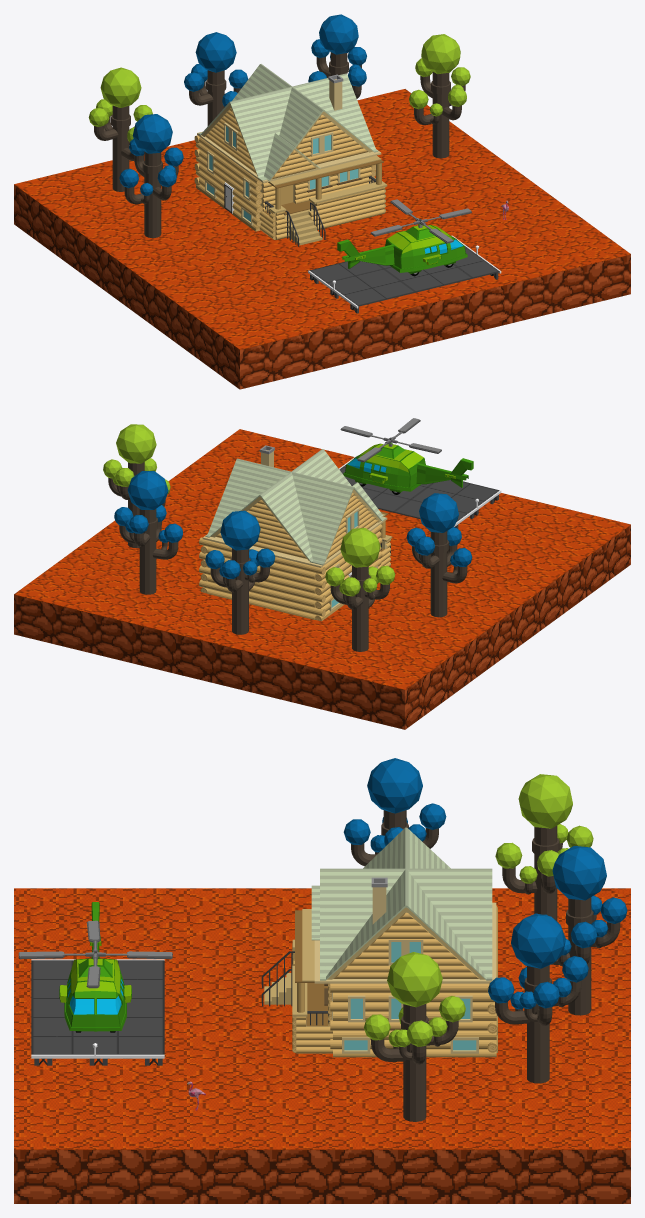
3 views of the same model, one above another, from view 1: azimuth 30°, elevation 25°; view 2: azimuth 150°, elevation 25°; view 3: azimuth 270°, elevation 25° (orthographic). The views are drawn at different scales.
Visible parts, largest first — view 1: Cube.001, Cube.1516, VEHICLES_HELICOPTER; view 2: Cube.001, Cube.1516, VEHICLES_HELICOPTER; view 3: Cube.001, Cube.1516, VEHICLES_HELICOPTER.
Boxes of the visible parts, bbox=[...] form: Cube.001: bbox=[14, 14, 630, 389]; Cube.1516: bbox=[194, 64, 387, 246]; VEHICLES_HELICOPTER: bbox=[337, 199, 471, 276]; Cube.001: bbox=[14, 424, 630, 729]; Cube.1516: bbox=[199, 445, 392, 621]; VEHICLES_HELICOPTER: bbox=[340, 418, 473, 494]; Cube.001: bbox=[14, 758, 630, 1203]; Cube.1516: bbox=[261, 827, 497, 1057]; VEHICLES_HELICOPTER: bbox=[18, 902, 172, 1032].
Bounding box in the file's own units: 4000 × 1680 × 4000.
Materials: 35 (5 with a texture image).
